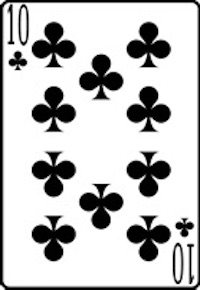TenOfClubs: (1, 1, 198, 288)
